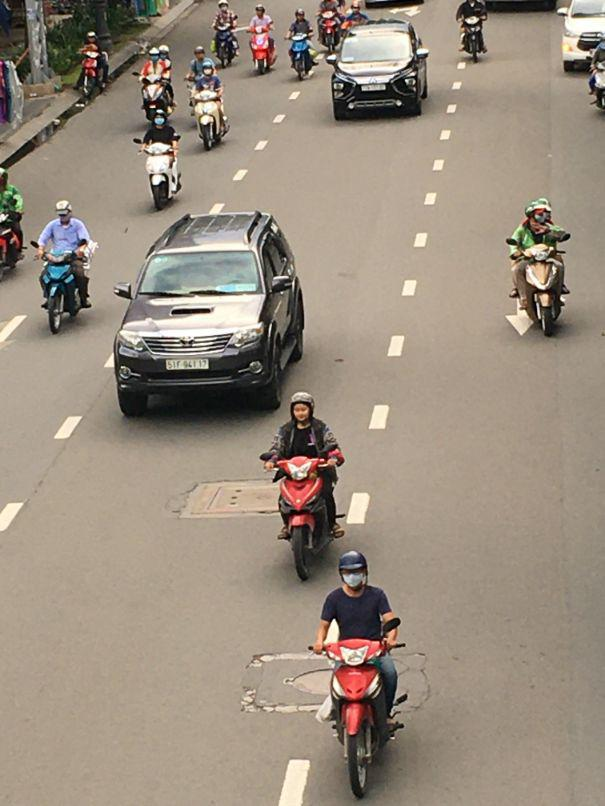car: (112, 208, 308, 417), (327, 19, 430, 123), (561, 0, 605, 73)
motorbike: (313, 626, 401, 796), (267, 455, 340, 580), (507, 242, 569, 335), (38, 243, 93, 333), (142, 139, 182, 211), (192, 92, 232, 152), (139, 76, 178, 131), (76, 40, 107, 97), (1, 213, 26, 280), (249, 19, 278, 76), (286, 28, 315, 82), (212, 28, 238, 69), (588, 58, 604, 111)
